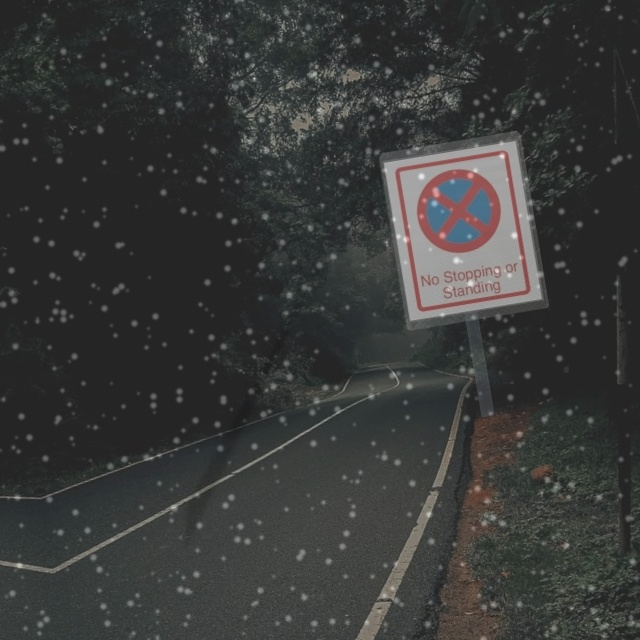No_Stopping_or_Standing: (401, 155, 519, 271)
